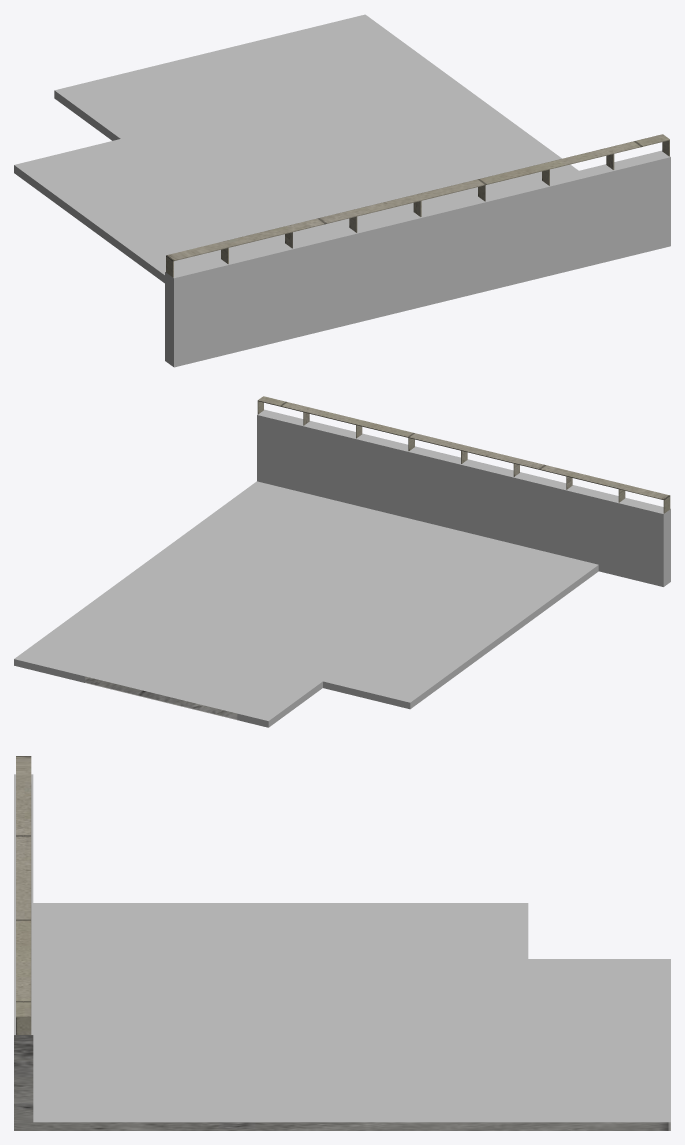
Rendered from MSH_Lobby_SP.FBX.
3 renders of one model, top to bottom at view 1: azimuth 30°, elevation 25°; view 2: azimuth 150°, elevation 25°; view 3: azimuth 270°, elevation 25°, orthographic. The views are drawn at different scales.
Parts seen in each view (by area): view 1: MSH_Lobby_SP; view 2: MSH_Lobby_SP; view 3: MSH_Lobby_SP.
Part boxes in pixels (left/top/right/bottom): MSH_Lobby_SP: left=14, top=14, right=670, bottom=367; MSH_Lobby_SP: left=14, top=396, right=670, bottom=727; MSH_Lobby_SP: left=14, top=756, right=670, bottom=1130.
Size of the model in its own units: 641 by 131 by 683.
